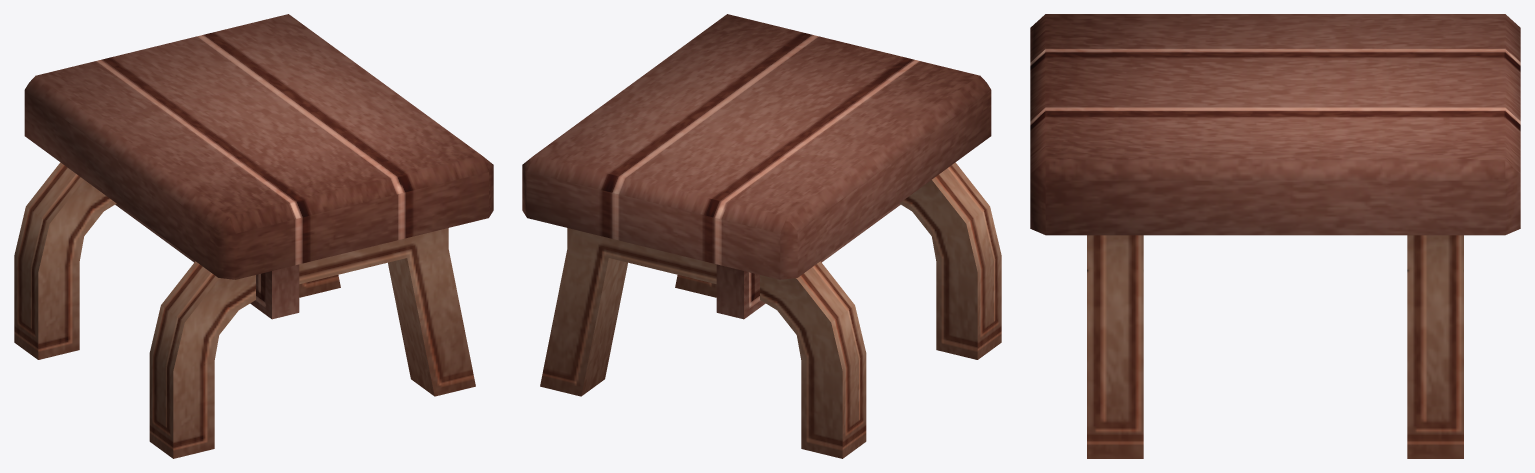
File: SquareStool.fbx
3 views of the same model, side by side, from view 1: azimuth 30°, elevation 25°; view 2: azimuth 150°, elevation 25°; view 3: azimuth 270°, elevation 25° (orthographic). The views are drawn at different scales.
Parts seen in each view (by area): view 1: SquareStool; view 2: SquareStool; view 3: SquareStool.
Boxes of the visible parts, x1,y1,x2,y2 form: SquareStool: (14,14,493,458); SquareStool: (522,14,1001,458); SquareStool: (1030,14,1520,458).
Bounding box in the file's own units: 220 × 171 × 260.
